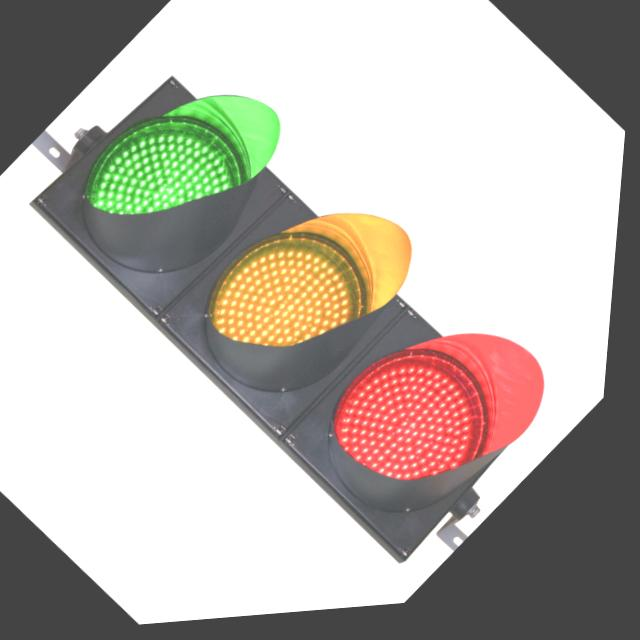Hijau: (69, 83, 265, 279)
Kuning: (192, 215, 382, 405)
Merah: (315, 334, 515, 533)
